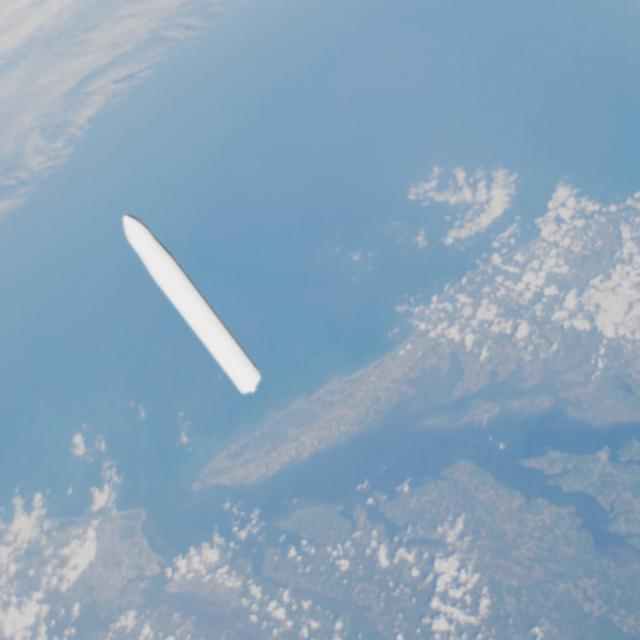rocket: (105, 215, 267, 407)
